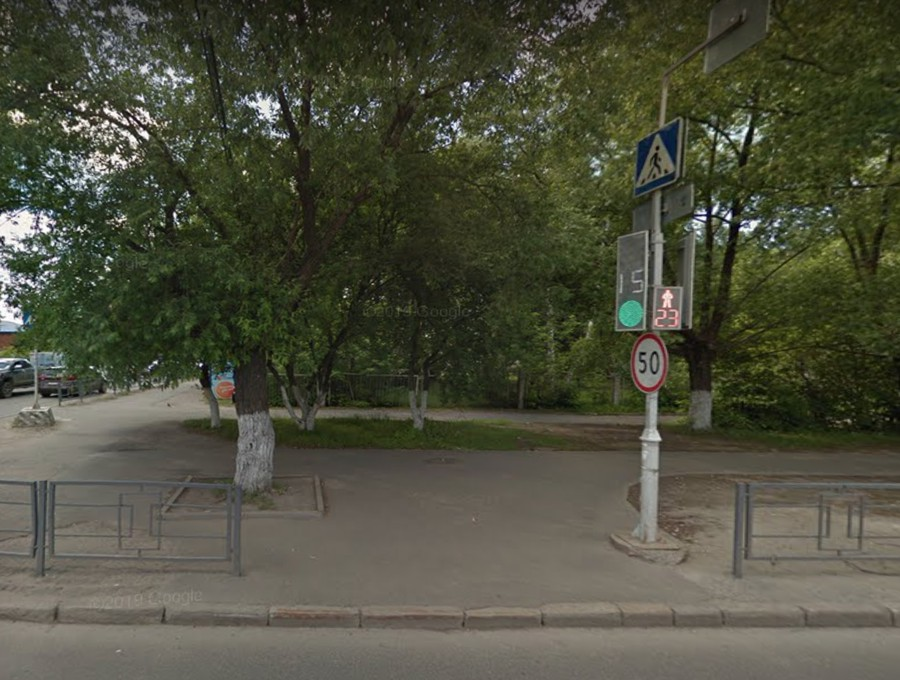Traffic Light-red: (653, 284, 684, 332)
